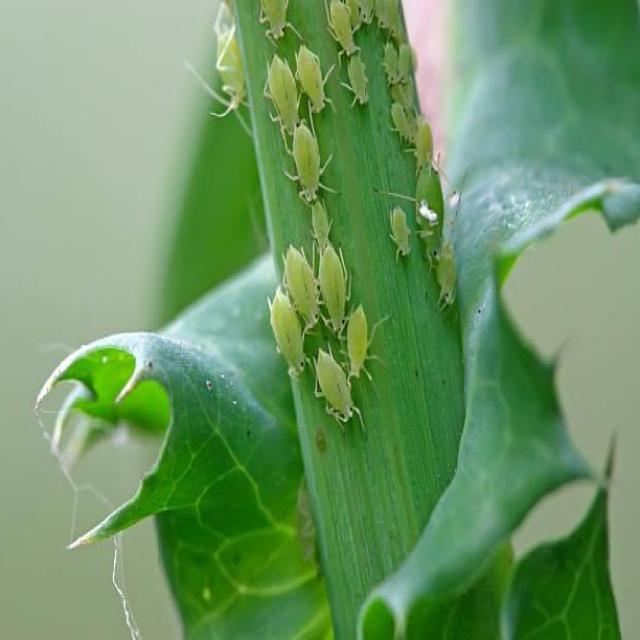aphid: (306, 339, 369, 438), (280, 236, 326, 332), (410, 162, 450, 272), (260, 49, 308, 137), (268, 286, 308, 386), (290, 39, 337, 122), (285, 122, 329, 204), (320, 235, 352, 344), (341, 302, 382, 380), (426, 233, 460, 314), (386, 192, 412, 276), (339, 53, 374, 110), (324, 0, 358, 57), (307, 196, 335, 254), (377, 36, 403, 90)
